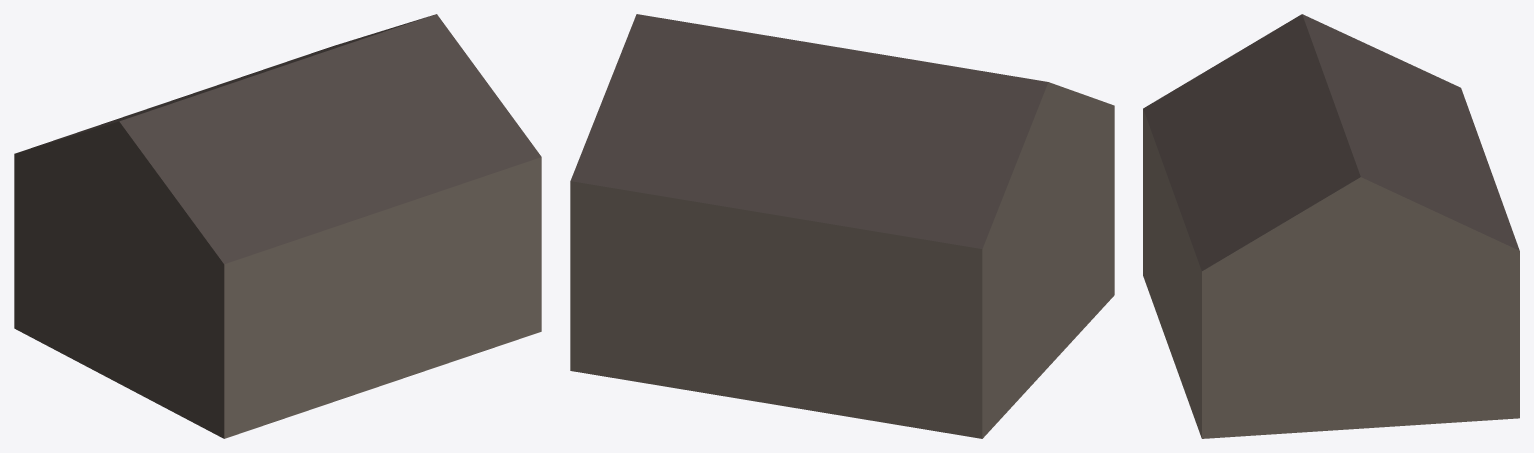
3 views of the same model, side by side, from view 1: azimuth 30°, elevation 25°; view 2: azimuth 150°, elevation 25°; view 3: azimuth 270°, elevation 25° (orthographic). The views are drawn at different scales.
Visible parts, largest first — view 1: HP-w859424271; view 2: HP-w859424271; view 3: HP-w859424271.
Part boxes in pixels (box(x1,y1,x2,y2)): HP-w859424271: box(14, 14, 541, 438); HP-w859424271: box(570, 14, 1114, 438); HP-w859424271: box(1143, 14, 1519, 438).
Size of the model in its own units: 14.11 by 9.01 by 12.23.
